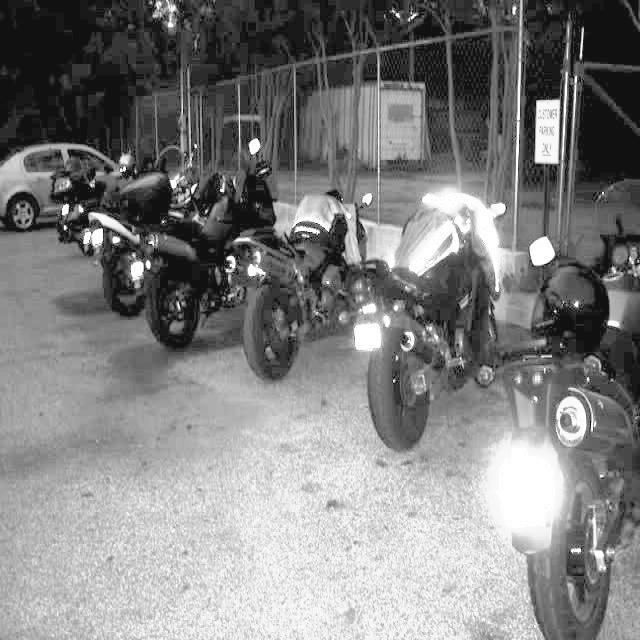Car: (0, 140, 135, 229)
Motorcycle: (484, 225, 640, 635), (338, 184, 516, 457), (134, 127, 309, 389), (226, 176, 404, 399), (55, 135, 246, 334)
